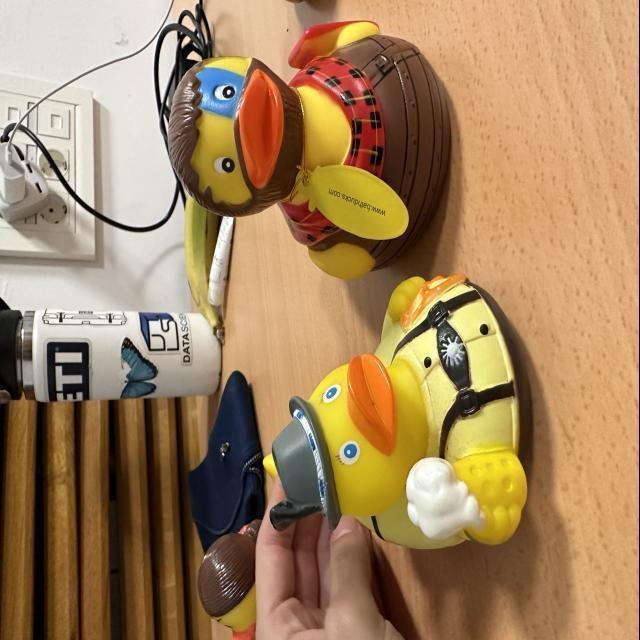rubber-duck: (167, 19, 449, 276), (270, 272, 525, 547), (404, 456, 483, 538)
